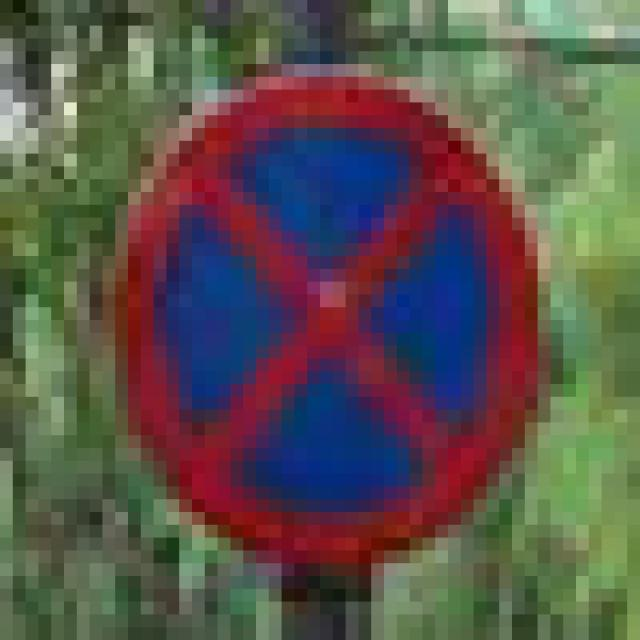no_parking: (102, 64, 525, 550)
